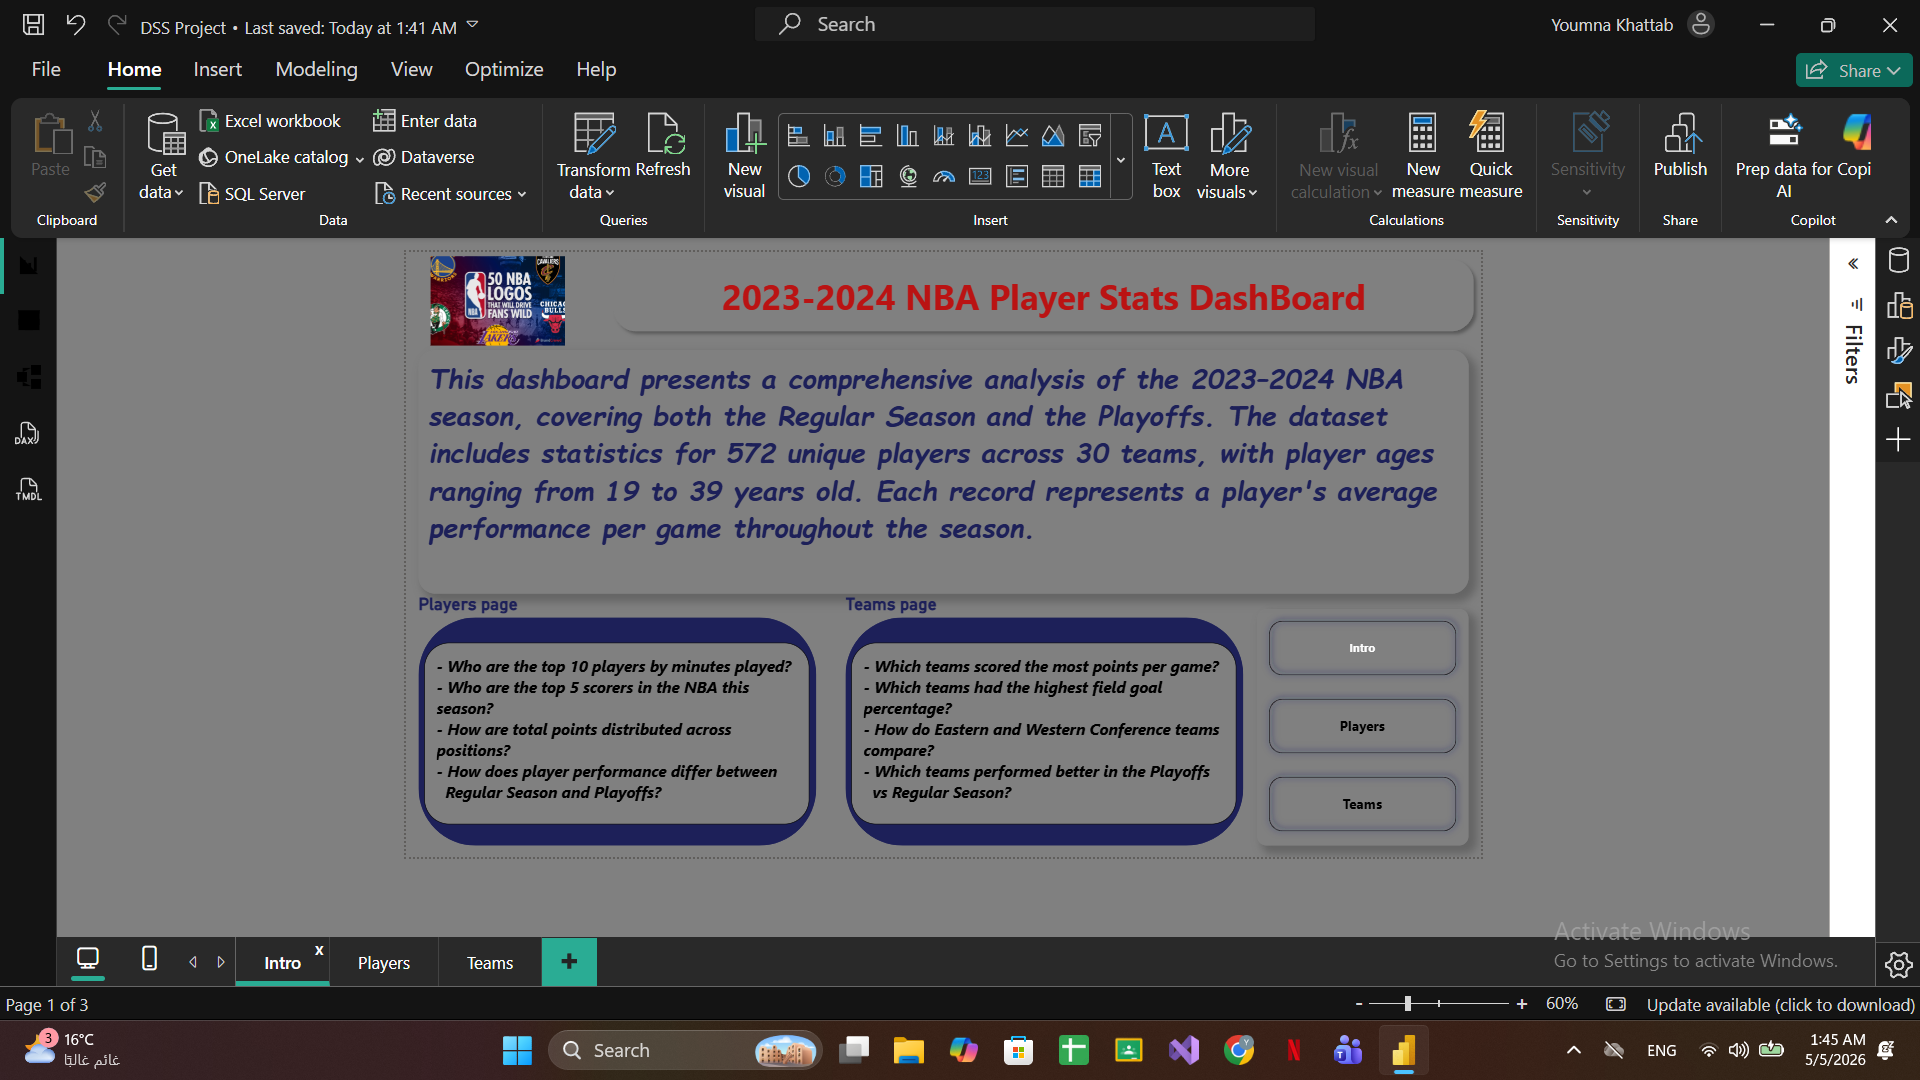

The dashboard page shown, as its layout file describes it:
{"tool":"powerbi","page":{"name":"Intro","canvas":[1280,720],"ordinal":0},"visuals":[{"type":"shape","box":[238.3,0,1041.7,103.3],"z":0},{"type":"image","box":[0,0,218.3,116.7],"z":1000},{"type":"textbox","box":[15,116.7,1250,290],"z":2000},{"type":"group","id":"g1","title":"Group 1","box":[15,406.7,473.3,300],"z":3000},{"type":"shape","title":"Players page","box":[15,406.7,473.3,300],"z":3500,"group":"g1"},{"type":"shape","title":"Teams page","box":[523.3,406.7,473.3,300],"z":3500,"group":"g2"},{"type":"group","id":"g2","title":"Group 1","box":[523.3,406.7,473.3,300],"z":4000},{"type":"textbox","box":[21.7,465,458.3,216.7],"z":4000,"group":"g1"},{"type":"textbox","box":[530,465,458.3,216.7],"z":4000,"group":"g2"},{"type":"pageNavigator","box":[1013.3,425,251.7,281.7],"z":5000}]}

Visuals, with their boxes on the page's 1280x720 design canvas (x1, y1, x2, y2). These are canvas units, not pixel positions in the 1920x1080 screenshot, which may show the page scaled, cropped or inside an application window:
shape: bbox=(238, 0, 1280, 103)
image: bbox=(0, 0, 218, 117)
textbox: bbox=(15, 117, 1265, 407)
"Group 1" group: bbox=(15, 407, 488, 707)
"Players page" shape: bbox=(15, 407, 488, 707)
"Teams page" shape: bbox=(523, 407, 997, 707)
"Group 1" group: bbox=(523, 407, 997, 707)
textbox: bbox=(22, 465, 480, 682)
textbox: bbox=(530, 465, 988, 682)
pageNavigator: bbox=(1013, 425, 1265, 707)
